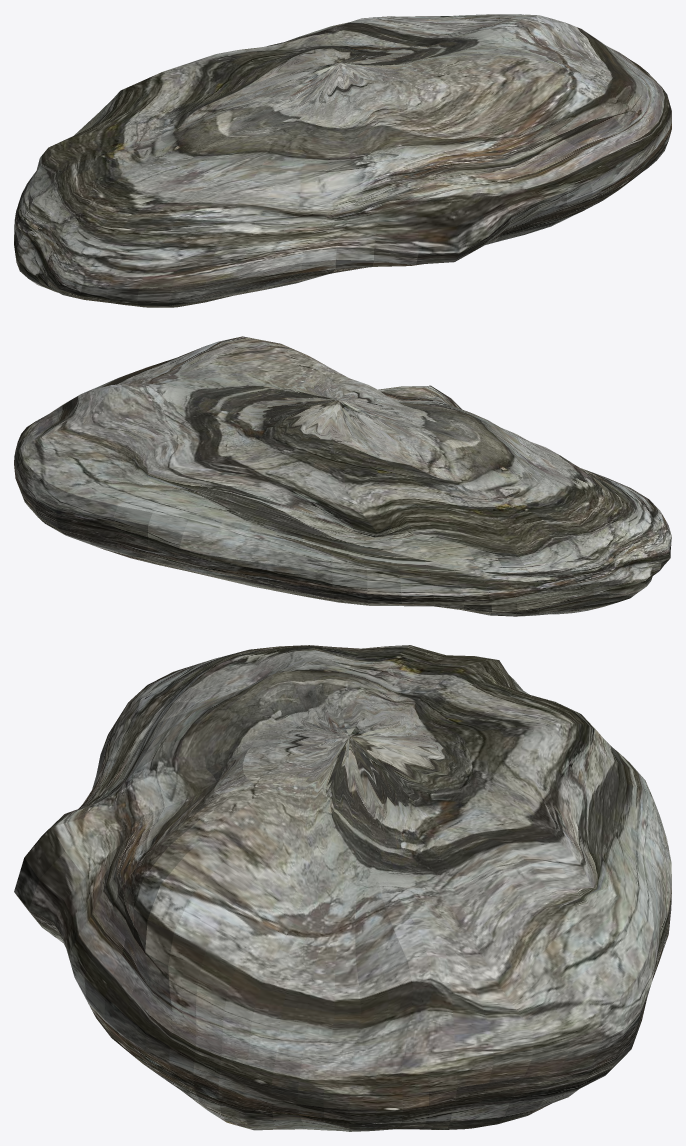
File: Rocky.fbx
3 renders of one model, top to bottom at view 1: azimuth 30°, elevation 25°; view 2: azimuth 150°, elevation 25°; view 3: azimuth 270°, elevation 25°, orthographic. The views are drawn at different scales.
Visible parts, largest first — view 1: Sphere; view 2: Sphere; view 3: Sphere.
Boxes of the visible parts, <box> form: Sphere: <box>14,14,671,307</box>; Sphere: <box>14,336,671,616</box>; Sphere: <box>14,645,671,1131</box>.
Bounding box in the file's own units: 954 × 214 × 585.
